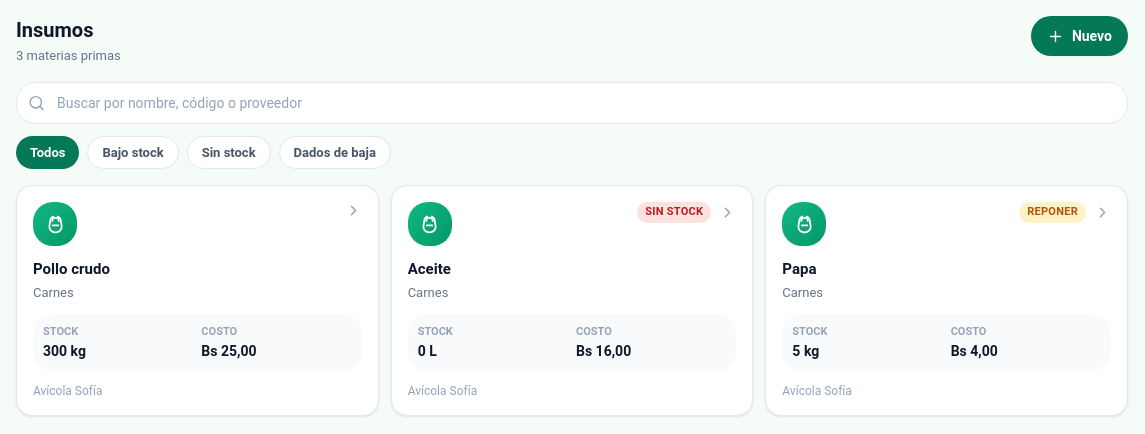
Belleza y los demás rubros: igual que antes › el filtro «Sin stock» sigue filtrando
Click the button "Sin stock". click: [229, 152]
box: [187, 136, 271, 169]
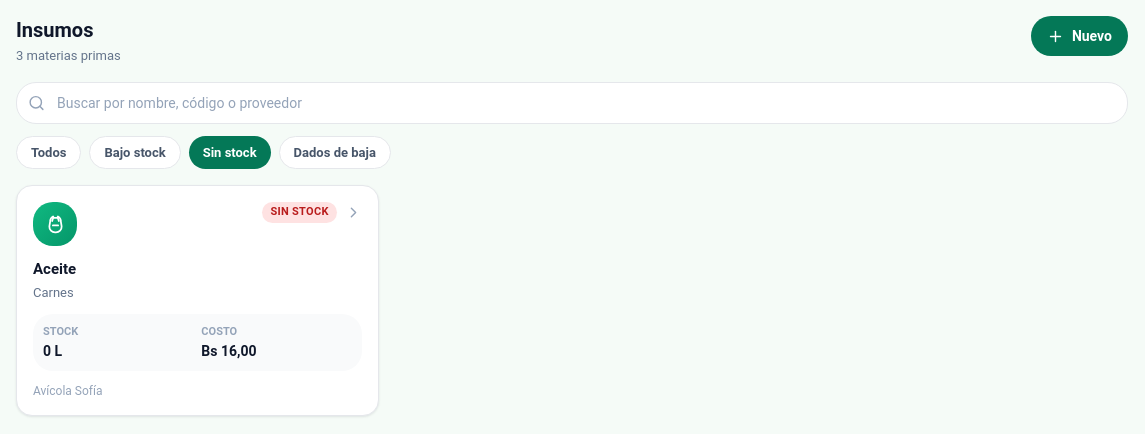
Expected: the heading "Aceite" is shown, [33, 260, 76, 278]
Now the button "Pollo crudo" is gone
Now the button "Papa" is gone
